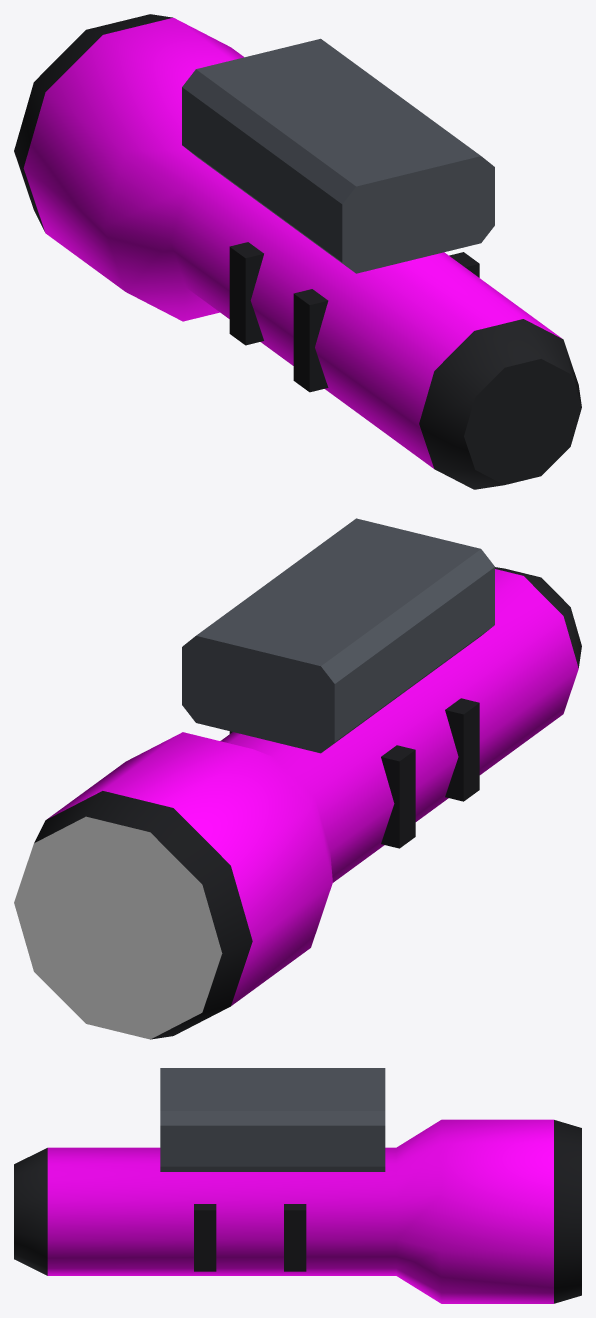
Rendered from att_flashlight.glb.
The picture shows the model from 3 angles, top to bottom: view 1: azimuth 30°, elevation 25°; view 2: azimuth 150°, elevation 25°; view 3: azimuth 270°, elevation 25°; orthographic projection. The views are drawn at different scales.
Parts seen in each view (by area): view 1: att_flashlight__body; view 2: att_flashlight__body; view 3: att_flashlight__body.
Part boxes in pixels (<box>): att_flashlight__body: <box>14,14,581,489</box>; att_flashlight__body: <box>14,518,581,1039</box>; att_flashlight__body: <box>14,1068,581,1303</box>.
Bounding box in the file's own units: 0.033 × 0.0397 × 0.101.
Materials: 1 (1 with a texture image).
